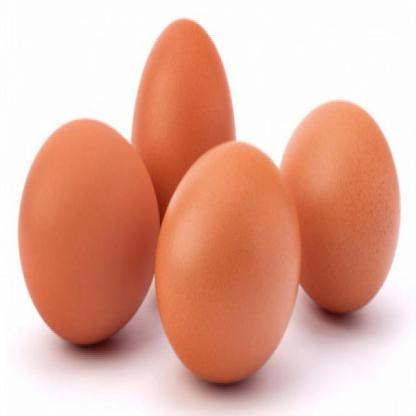egg: (146, 128, 298, 391), (13, 105, 158, 348), (274, 92, 412, 330), (123, 10, 245, 192)
